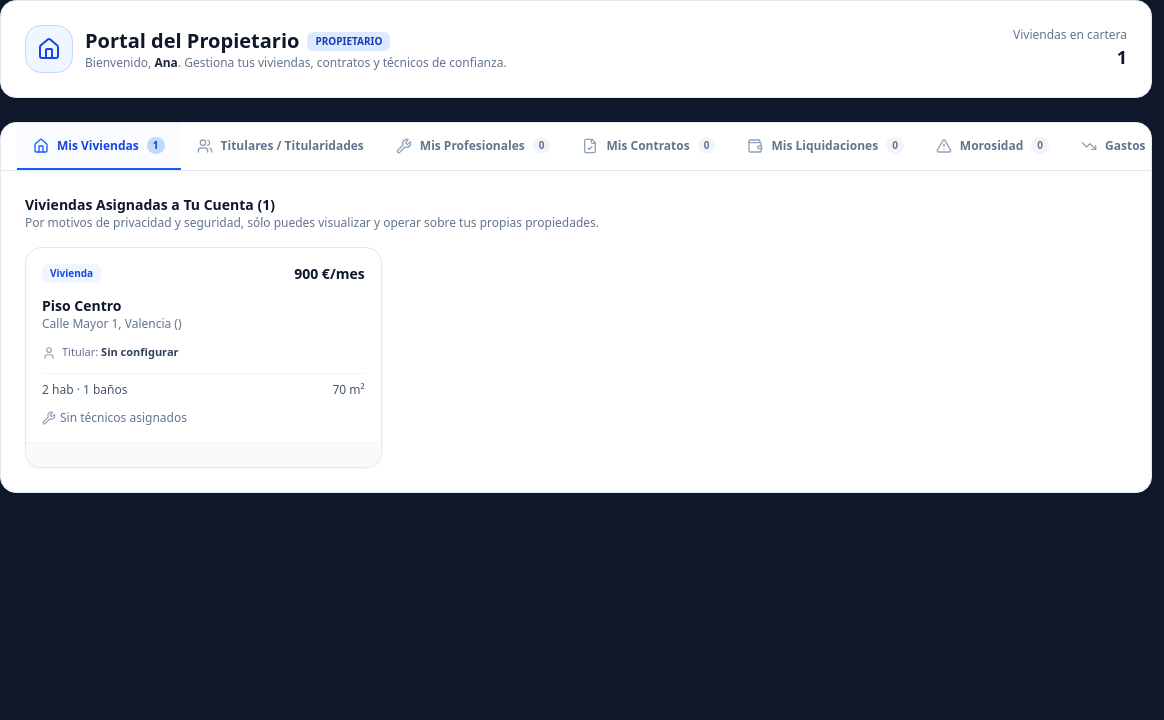
Scenario: portal: pestaña de titularidades › la suscripción en vivo refresca el panel
Click the button "Titulares / Titularidades". click: (280, 147)
box: [180,123,380,170]
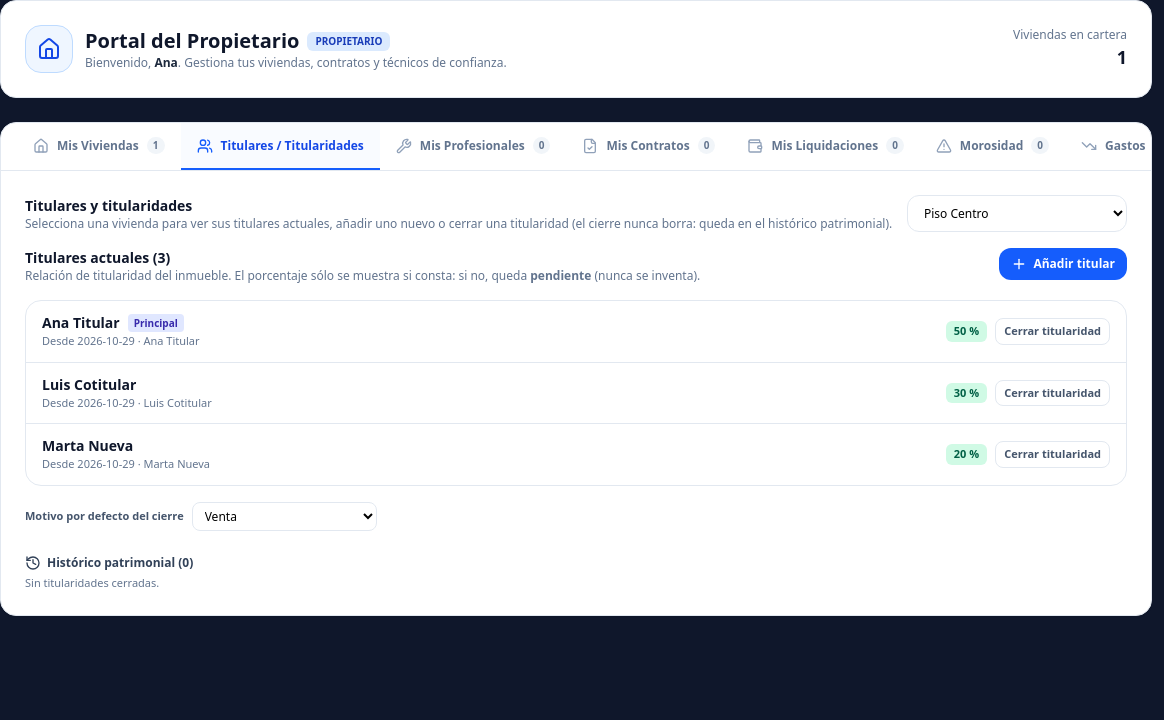
Check: the heading "Titulares actuales (3)" is shown, box [25,248,170,267]
Check: the text "Marta Nueva" is shown, box [42,436,133,455]
